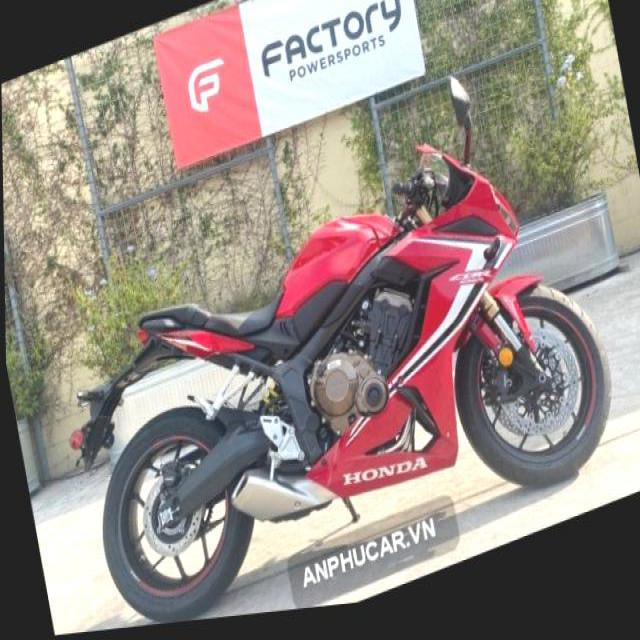CBR650R: (51, 99, 623, 634)
